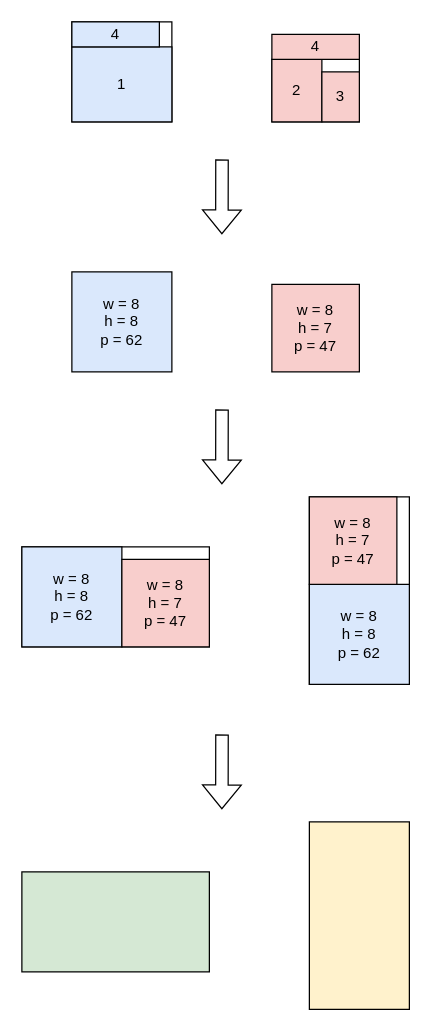
The diagram is 431 pixels wide and 1031 high, and some of its shapes have lost their labels. The shapes that lost their labels are listed below. From the top down, each one's box as (x1, y1, x2, y2) in pixels, then its label:
(21, 871, 209, 972): w = 16 h = 8 p = 109
(308, 821, 409, 1009): w = 8 h = 15 p = 109
